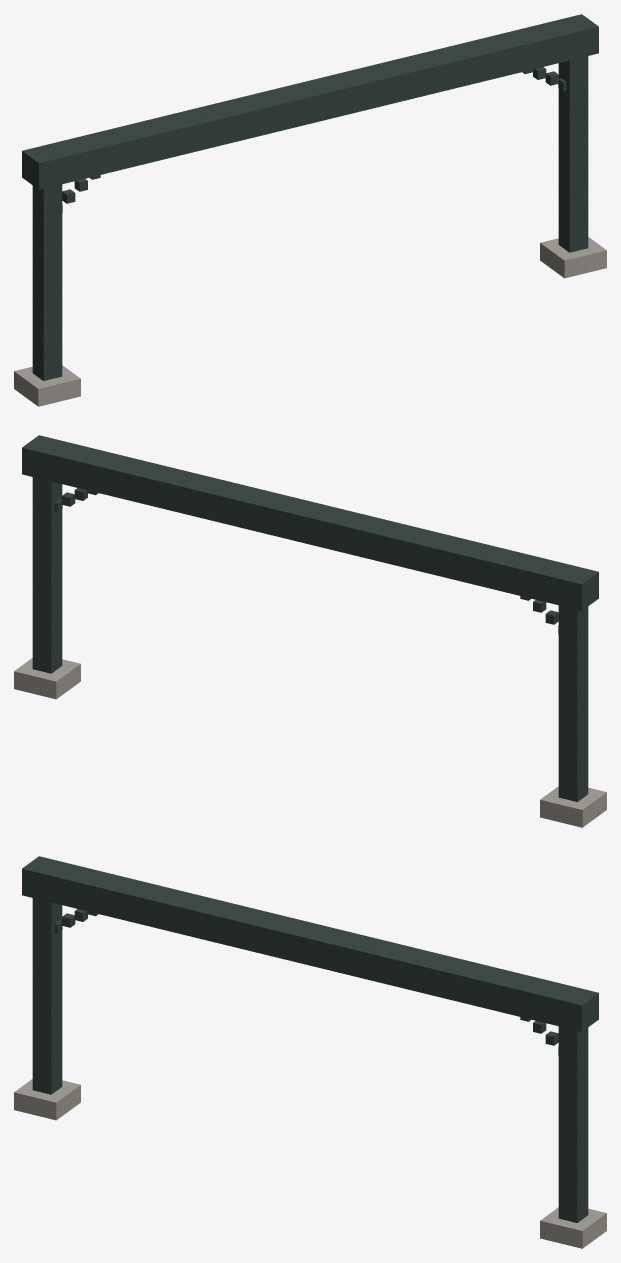
Rendered from l_bent_wide.glb.
3 views of the same model, one above another, from view 1: azimuth 30°, elevation 25°; view 2: azimuth 150°, elevation 25°; view 3: azimuth 330°, elevation 25° (orthographic).
Visible parts, largest first — view 1: l_bent_wide; view 2: l_bent_wide; view 3: l_bent_wide.
Part boxes in pixels (<box>): l_bent_wide: <box>14,14,606,406</box>; l_bent_wide: <box>14,435,606,827</box>; l_bent_wide: <box>14,856,606,1248</box>.
Bounding box in the file's own units: 13.4 × 5.4 × 1.
Materials: 2 (2 with a texture image).
